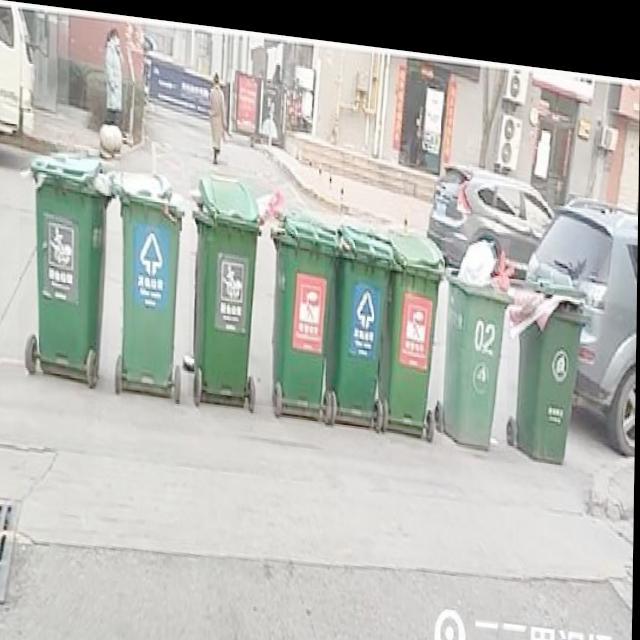garbage_bin: (111, 161, 183, 380), (324, 208, 392, 403), (377, 218, 442, 412), (271, 198, 331, 395)
overflow: (19, 145, 112, 375), (189, 165, 280, 400), (507, 233, 589, 451), (443, 220, 511, 438)
